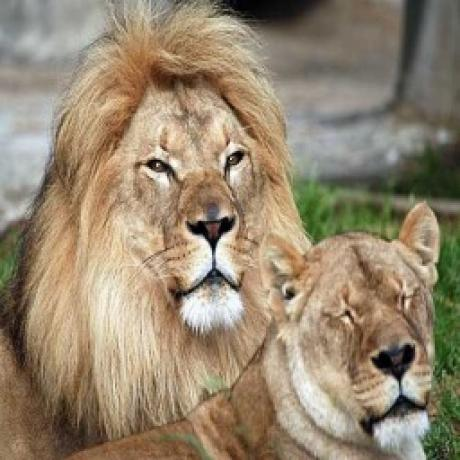Lion: (1, 0, 325, 460), (260, 204, 451, 460)
